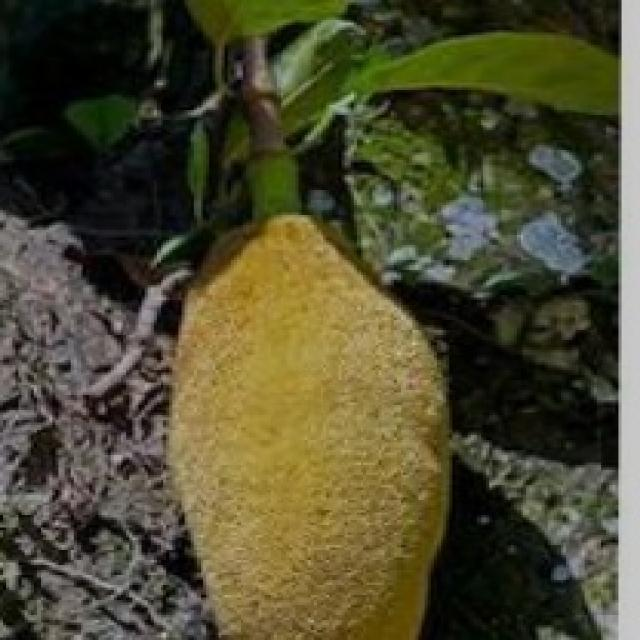Fruit: (96, 190, 490, 635)
